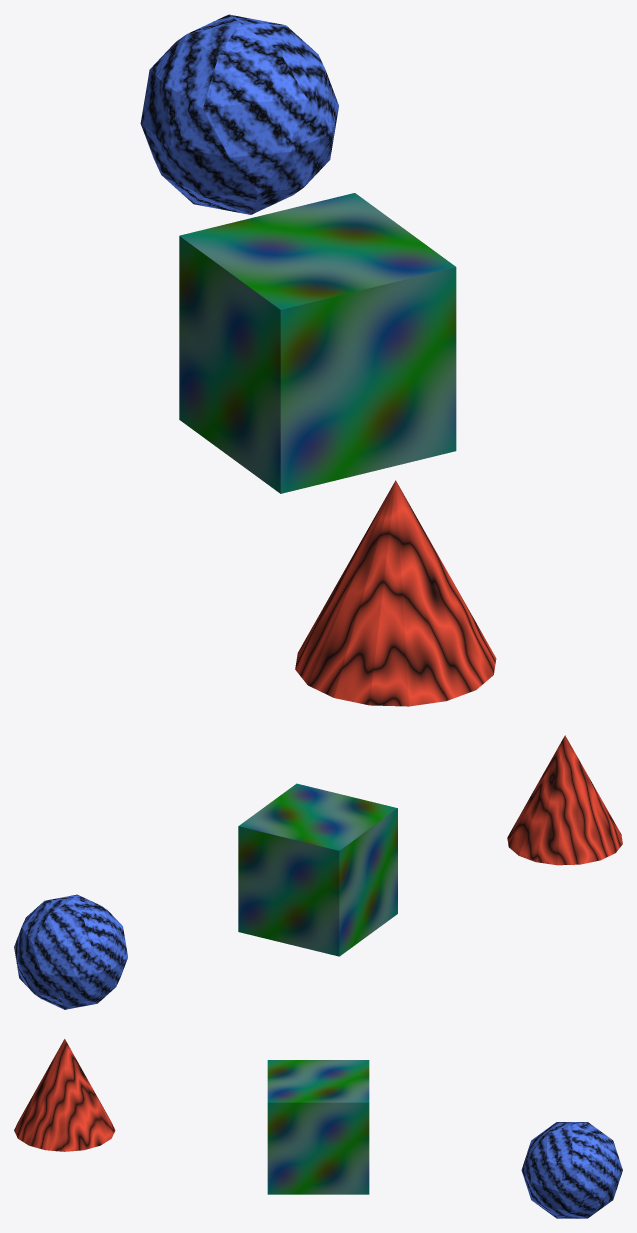
Rendered from shapes.glb.
3 renders of one model, top to bottom at view 1: azimuth 30°, elevation 25°; view 2: azimuth 150°, elevation 25°; view 3: azimuth 270°, elevation 25°, orthographic. The views are drawn at different scales.
Visible parts, largest first — view 1: Cube, Icosphere, Cone; view 2: Cube, Icosphere, Cone; view 3: Cube, Icosphere, Cone.
Part boxes in pixels (x1,y1,x2,y2): Cube: (179,193,456,493); Icosphere: (140,14,338,214); Cone: (295,480,496,706); Cube: (238,783,397,956); Icosphere: (14,894,127,1009); Cone: (507,735,622,865); Cube: (267,1060,369,1194); Icosphere: (521,1122,622,1218); Cone: (14,1039,115,1151).
Size of the model in its own units: 5.95 by 2 by 12.
Materials: 3 (3 with a texture image).
